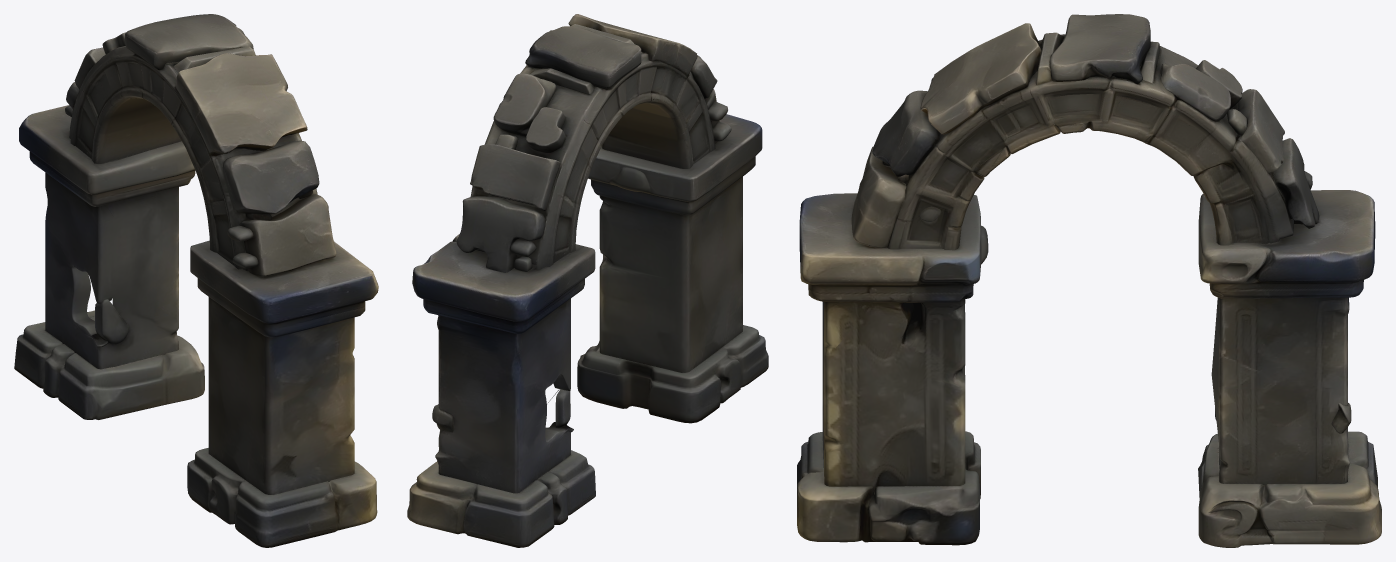
File: broken-arch.glb
3 views of the same model, side by side, from view 1: azimuth 30°, elevation 25°; view 2: azimuth 150°, elevation 25°; view 3: azimuth 270°, elevation 25° (orthographic). The views are drawn at different scales.
Parts seen in each view (by area): view 1: tripo_node_715e3663-bb21-4cae-bd3c-f16364afbd10; view 2: tripo_node_715e3663-bb21-4cae-bd3c-f16364afbd10; view 3: tripo_node_715e3663-bb21-4cae-bd3c-f16364afbd10.
Boxes of the visible parts, x1,y1,x2,y2 form: tripo_node_715e3663-bb21-4cae-bd3c-f16364afbd10: (14,14,378,547); tripo_node_715e3663-bb21-4cae-bd3c-f16364afbd10: (407,14,768,547); tripo_node_715e3663-bb21-4cae-bd3c-f16364afbd10: (797,14,1381,547).
Bounding box in the file's own units: 0.2954 × 0.8999 × 0.9995.
Materials: 1 (1 with a texture image).
